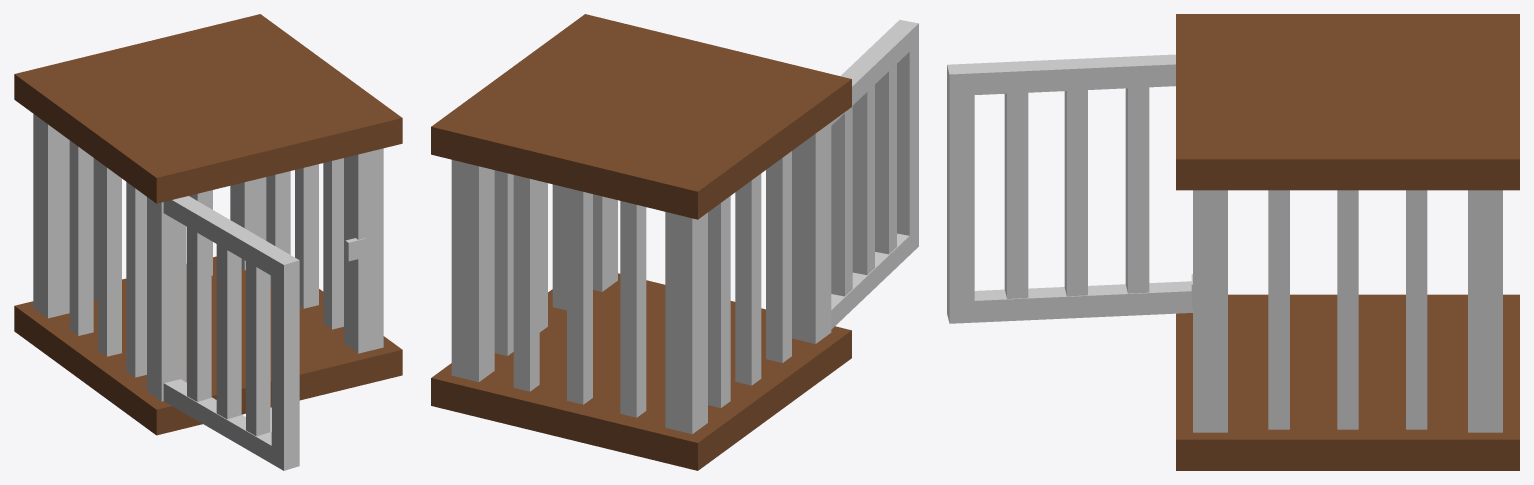
File: small_animal_cage.glb
The picture shows the model from 3 angles, left to right: view 1: azimuth 30°, elevation 25°; view 2: azimuth 150°, elevation 25°; view 3: azimuth 270°, elevation 25°; orthographic projection. The views are drawn at different scales.
Visible parts, largest first — view 1: Cube.002, Cube.001, Door, Cube.003, Cube.004, Cube.005, Cube.014, Cube.013, Cube.010, Cube.009, Cube.011, Cube.012 (+6 smaller); view 2: Cube.002, Cube.001, Cube, Cube.005, Door, Cube.004, Cube.015, Cube.017, Cube.016, Cube.013, Cube.012, Cube.014 (+7 smaller); view 3: Cube.002, Cube.001, Door, Cube, Cube.003, Cube.006, Cube.007, Cube.008, Cube.011, Cube.009, Cube.010.
Part boxes in pixels (<box>): Cube.002: <box>14,14,402,203</box>; Cube.001: <box>14,256,402,435</box>; Door: <box>163,196,299,470</box>; Cube.003: <box>344,148,383,353</box>; Cube.004: <box>147,197,186,401</box>; Cube.005: <box>33,114,69,318</box>; Cube.014: <box>69,140,93,335</box>; Cube.013: <box>98,161,121,356</box>; Cube.010: <box>216,244,241,419</box>; Cube.009: <box>246,261,270,436</box>; Cube.011: <box>187,227,211,401</box>; Cube.012: <box>126,182,146,377</box>; Cube.002: <box>431,14,851,219</box>; Cube.001: <box>431,273,851,470</box>; Cube: <box>451,160,494,382</box>; Cube.005: <box>665,212,707,434</box>; Door: <box>831,20,918,329</box>; Cube.004: <box>792,122,831,343</box>; Cube.015: <box>620,201,646,417</box>; Cube.017: <box>513,175,539,391</box>; Cube.016: <box>567,188,592,404</box>; Cube.013: <box>735,173,761,385</box>; Cube.012: <box>766,151,791,362</box>; Cube.014: <box>708,196,730,408</box>; Cube.002: <box>1176,14,1519,190</box>; Cube.001: <box>1176,294,1519,470</box>; Door: <box>947,54,1192,323</box>; Cube: <box>1468,190,1502,432</box>; Cube.003: <box>1193,190,1227,432</box>; Cube.006: <box>1406,190,1427,429</box>; Cube.007: <box>1337,190,1358,429</box>; Cube.008: <box>1268,190,1289,429</box>; Cube.011: <box>1125,87,1149,293</box>; Cube.009: <box>1004,92,1028,298</box>; Cube.010: <box>1064,90,1087,296</box>.
Size of the model in its own units: 0.7879 by 0.7879 by 1.31.
